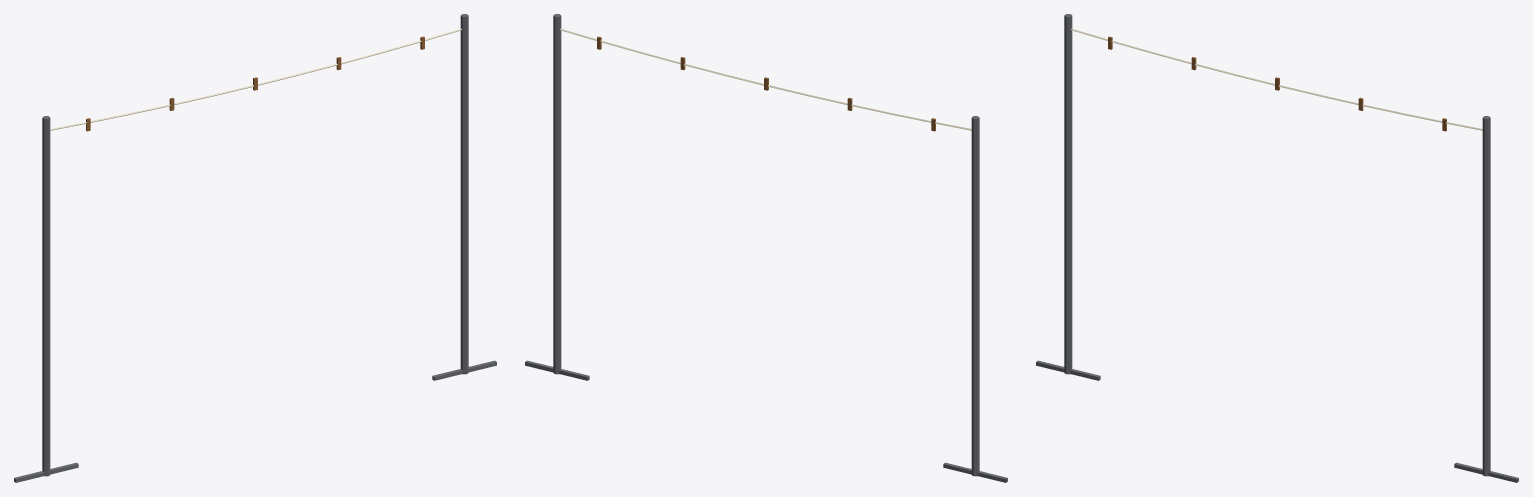
File: sheet_frame.glb
3 views of the same model, side by side, from view 1: azimuth 30°, elevation 25°; view 2: azimuth 150°, elevation 25°; view 3: azimuth 330°, elevation 25° (orthographic).
Visible parts, largest first — view 1: sheet_frame; view 2: sheet_frame; view 3: sheet_frame.
Part boxes in pixels (bbox=[...]): sheet_frame: bbox=[14, 14, 496, 482]; sheet_frame: bbox=[525, 14, 1007, 482]; sheet_frame: bbox=[1036, 14, 1518, 482].
Size of the model in its own units: 6.9 by 4.9 by 0.1.
